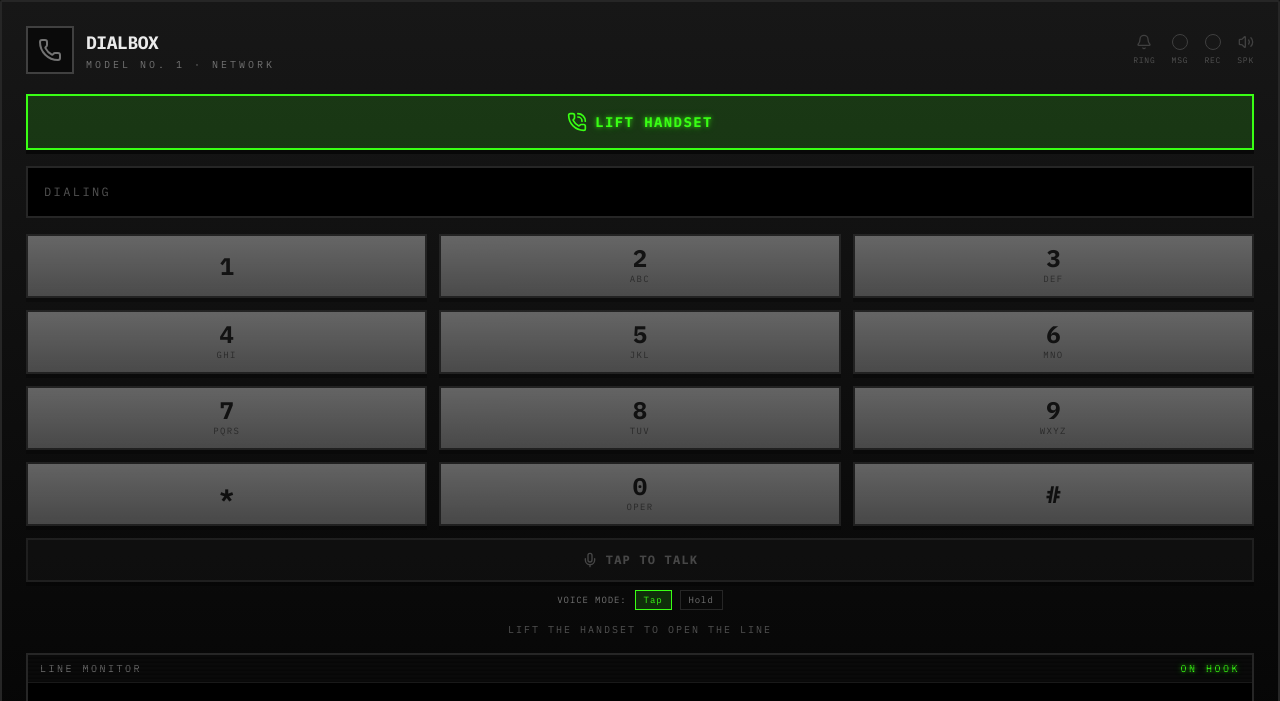
it: PhoneSimulator Phase 1A characterization › lift handset opens the DialBox menu
Click the button "Lift Handset": click(640, 122) [26,94,1254,150]
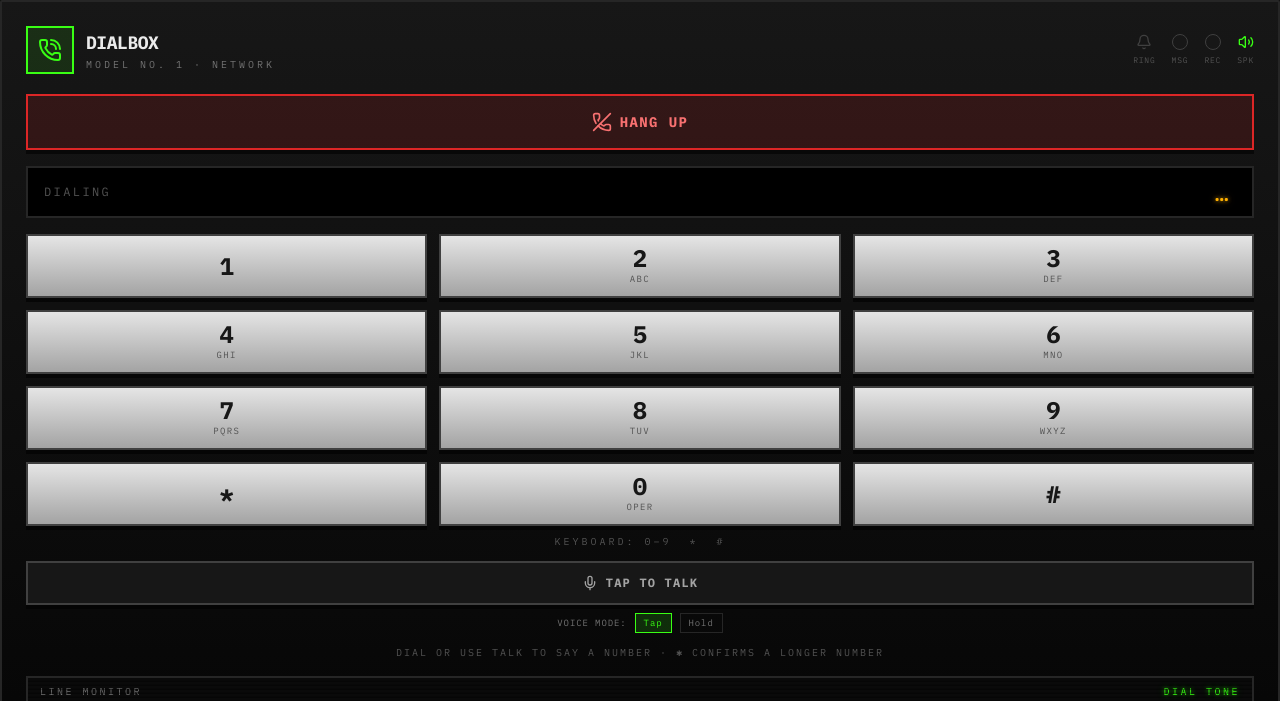
Check: the text with class "crt-glow" reads "DIAL TONE", box [1164,684,1240,698]
